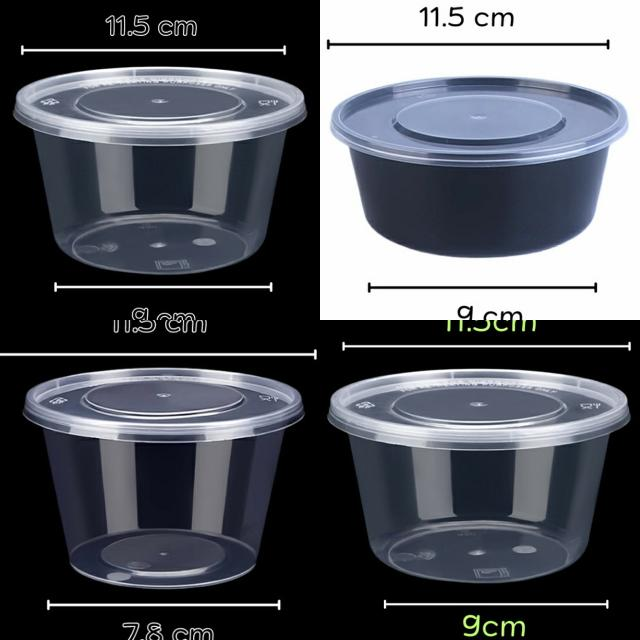Single-Use-Plastic: (329, 369, 630, 584), (24, 368, 304, 588), (14, 68, 306, 275), (331, 78, 628, 258)
